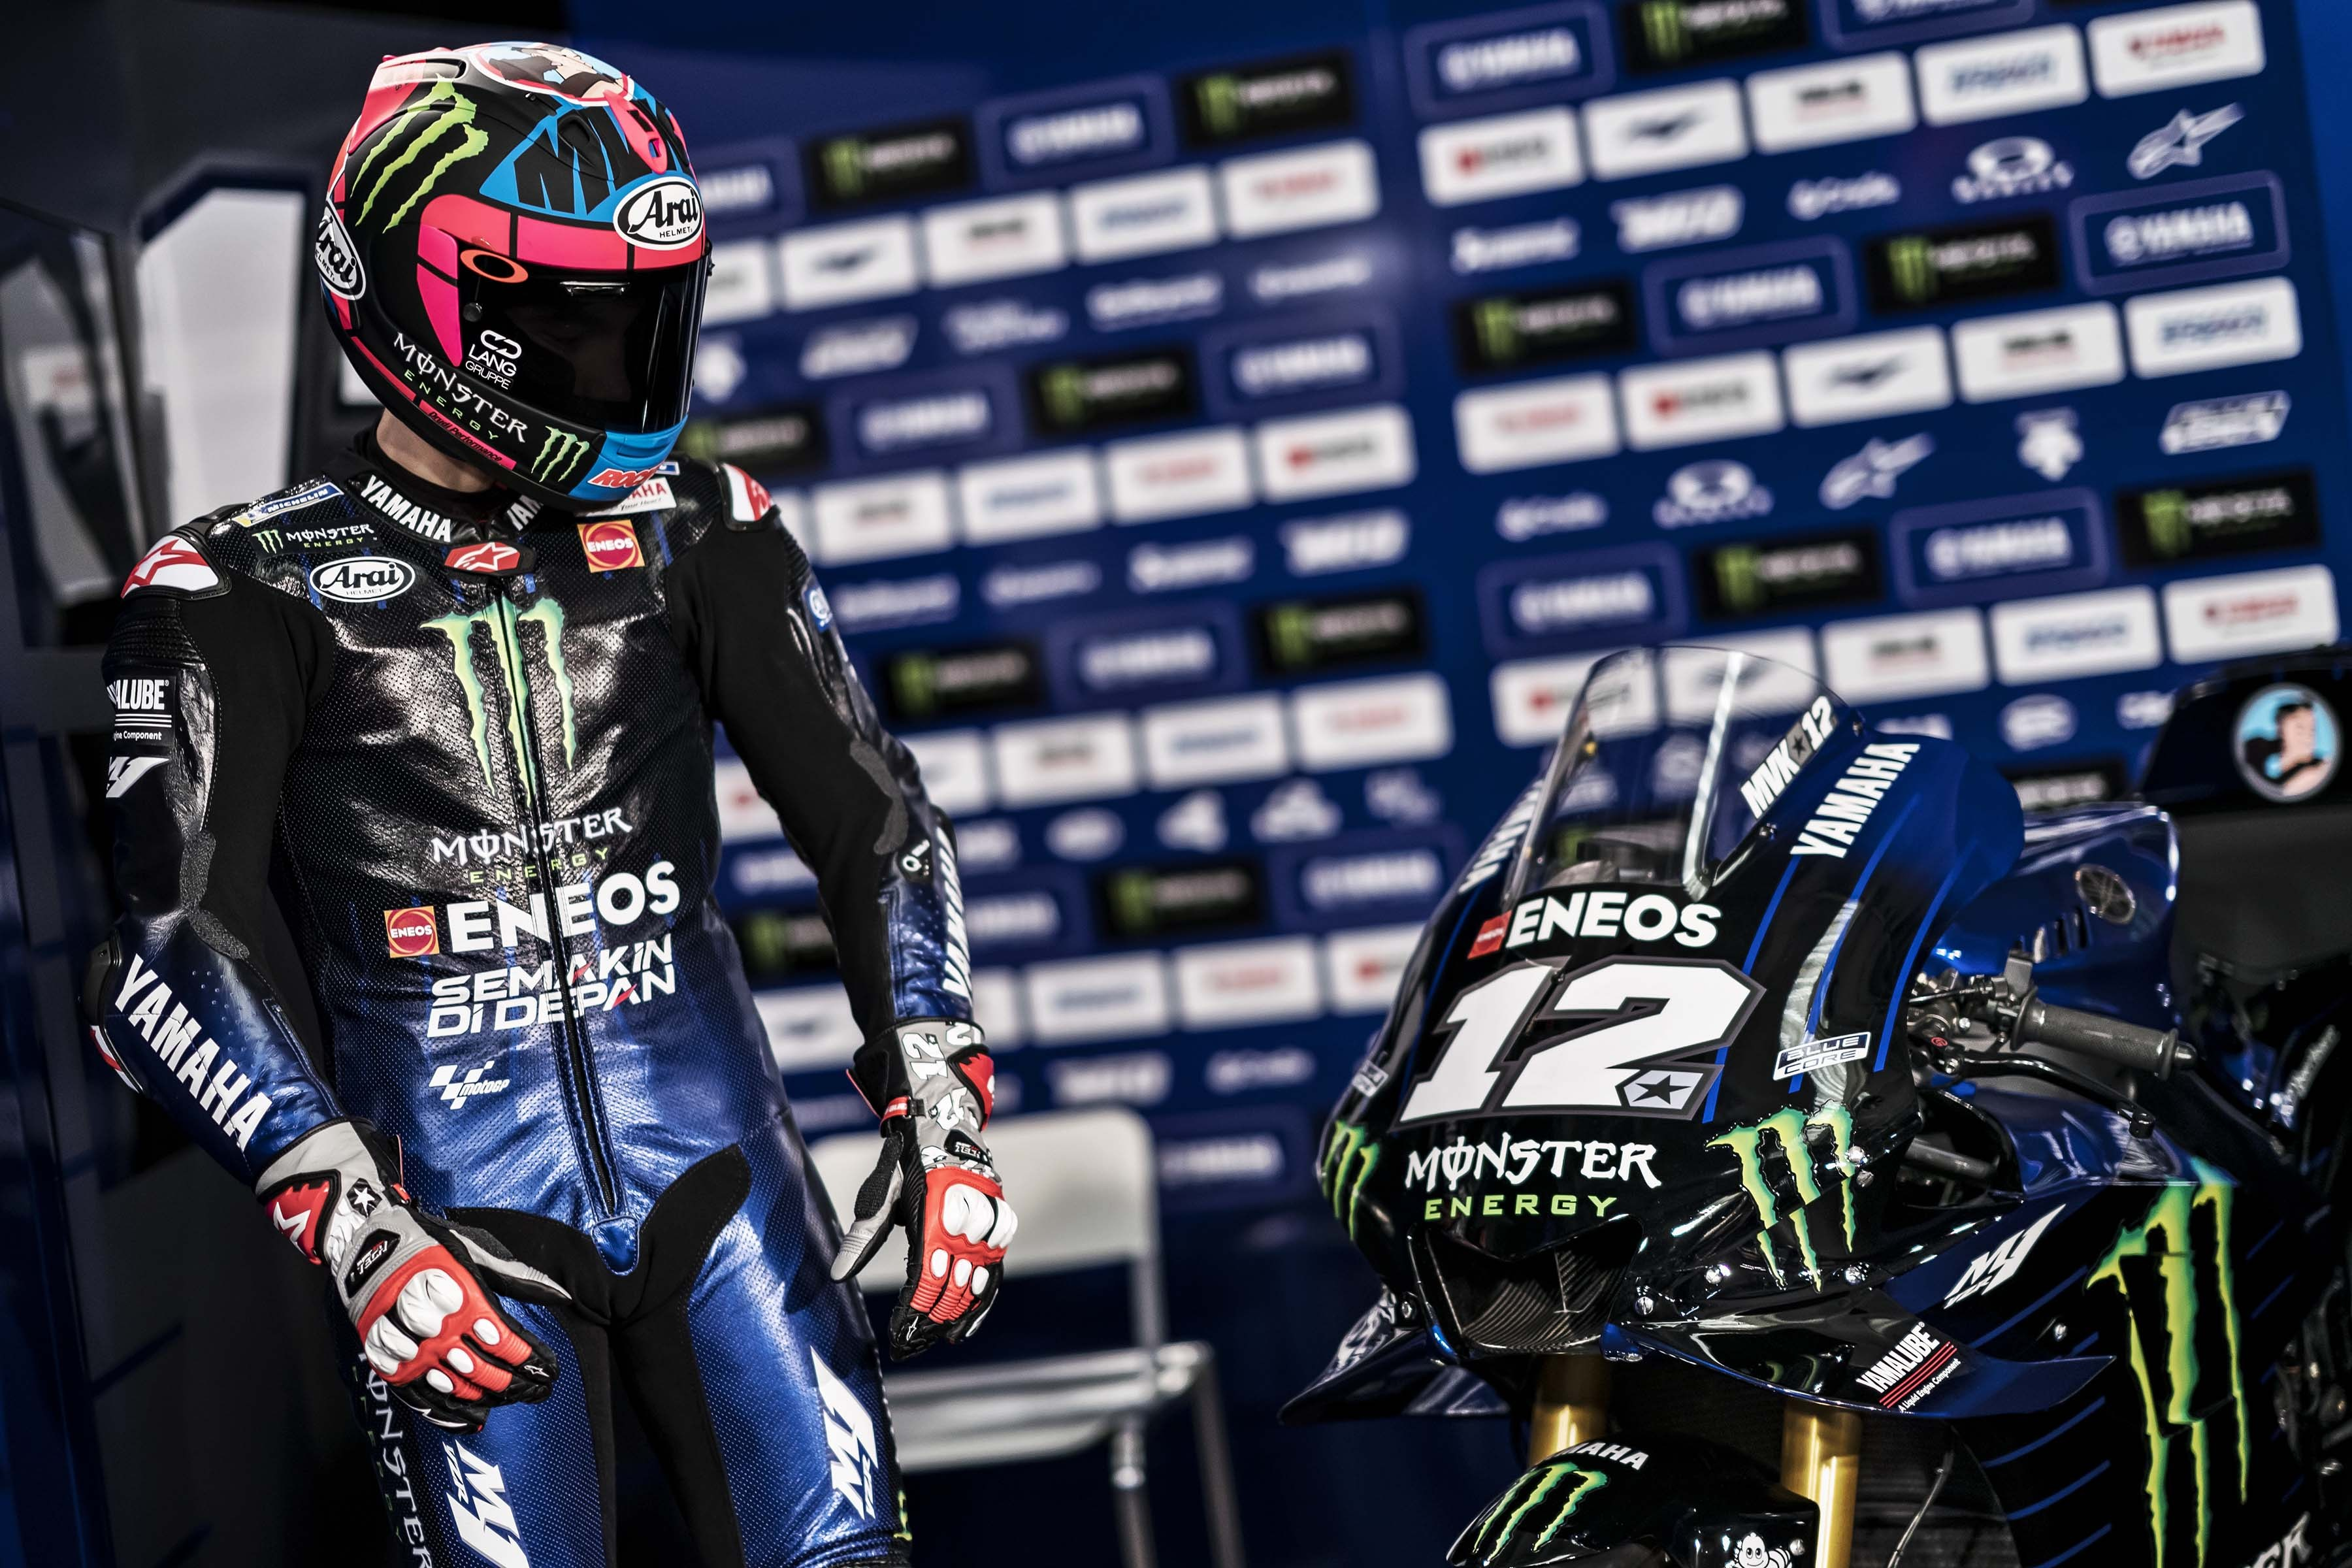helmet: (296, 21, 757, 514)
